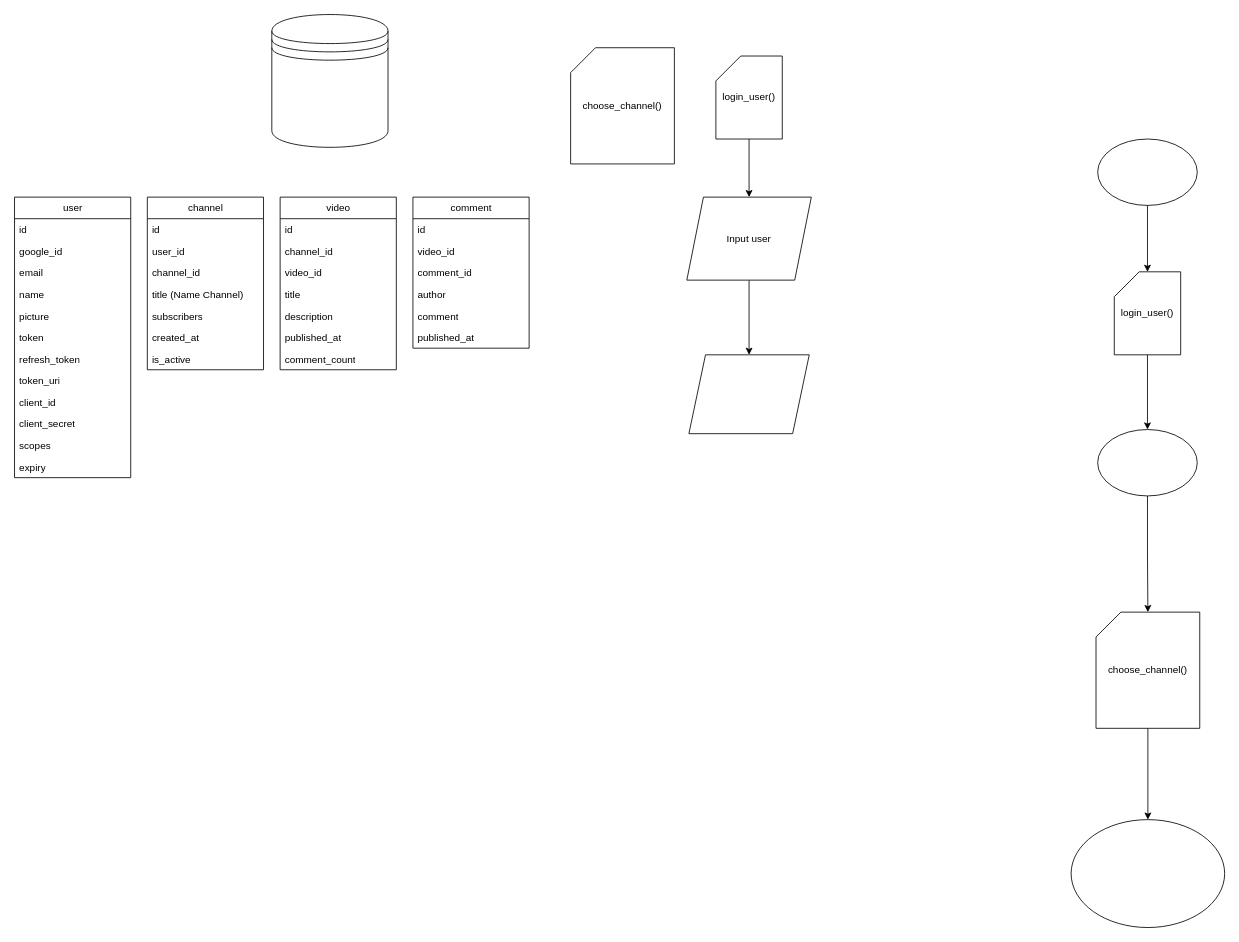
Image size: 1239x942. Some labels were removed from this diagram. The centre of each missing label's shape, as x and y in pixels:
"Choose Channel" belongs at point (1147, 462).
"Database" belongs at point (329, 80).
"Login Page" belongs at point (1147, 171).
"Output user token" belongs at point (748, 394).
"save_and_block_comment" belongs at point (1147, 873).
